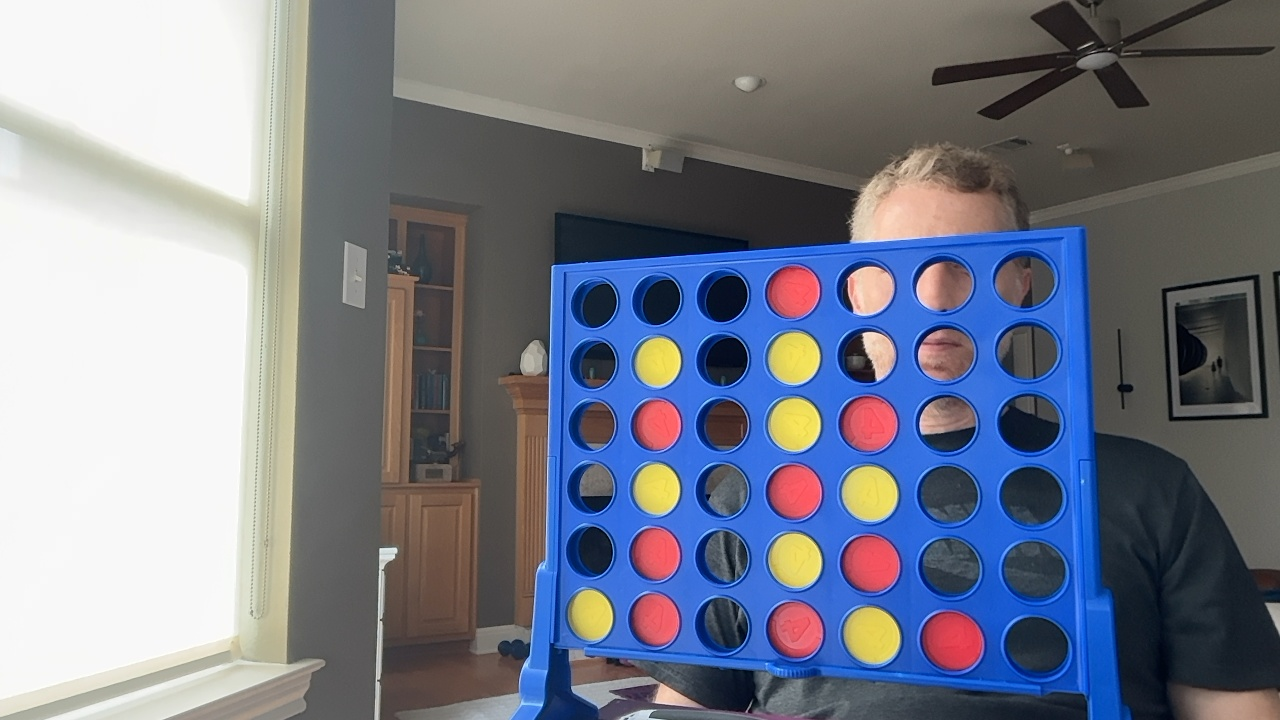red piece: (921, 611, 983, 671), (841, 535, 900, 592), (767, 601, 823, 658), (840, 396, 897, 451), (766, 464, 822, 519), (766, 265, 820, 318), (630, 593, 680, 646), (630, 527, 680, 580), (632, 399, 681, 450)
yellow piece: (842, 606, 901, 665), (841, 465, 898, 521), (768, 532, 822, 588), (767, 397, 820, 451), (767, 331, 820, 384), (633, 336, 681, 388), (632, 463, 680, 515), (567, 589, 613, 641)
